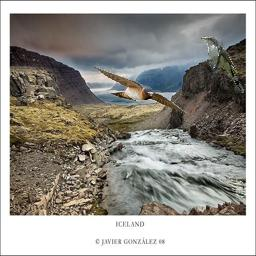Cuckoo: (201, 36, 244, 93)
Swallow: (91, 64, 189, 114)
